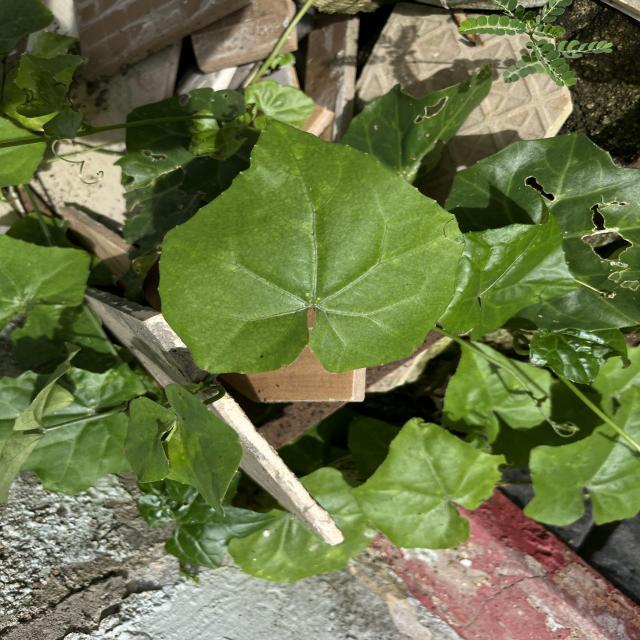Coccinia grandis: (156, 115, 469, 378)
